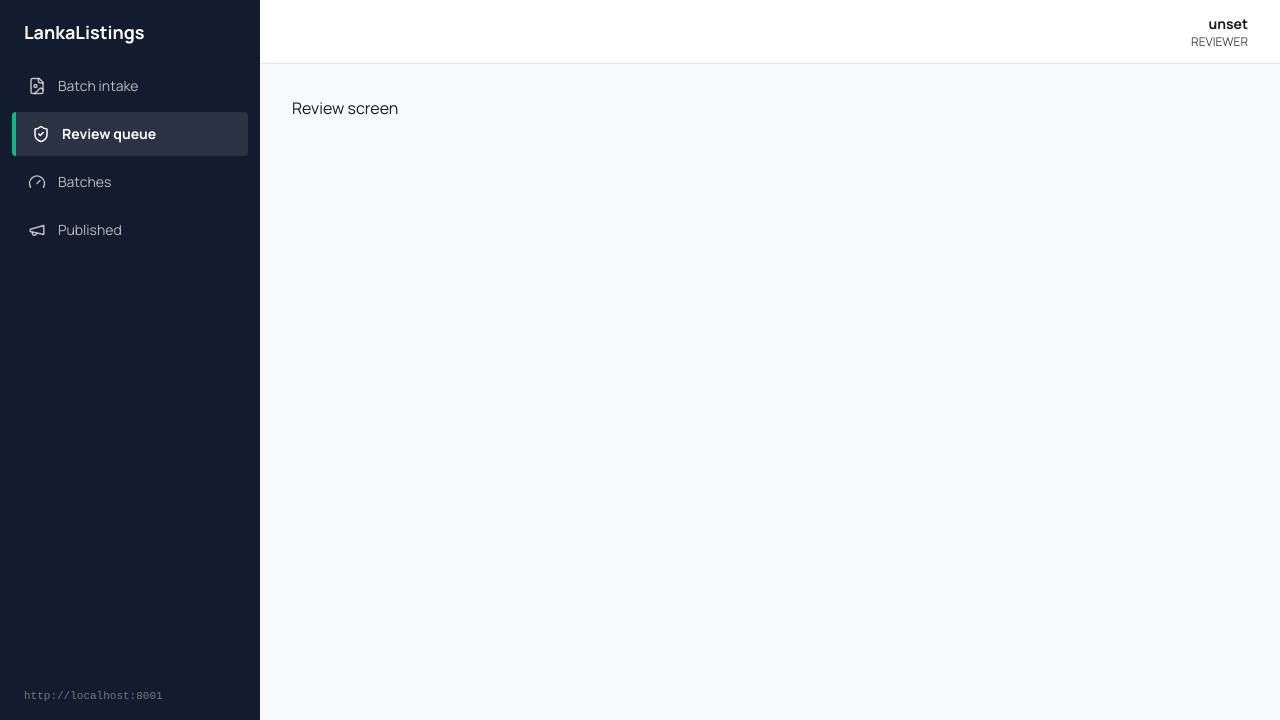
App shell › navigates rather than just looking like it does
This screenshot has width=1280, height=720.
Check: the text "Review screen" is shown, box x1=292 y1=97 x2=398 y2=119
Click the link "Batch intake" at (83, 86), box x1=28 y1=76 x2=138 y2=95
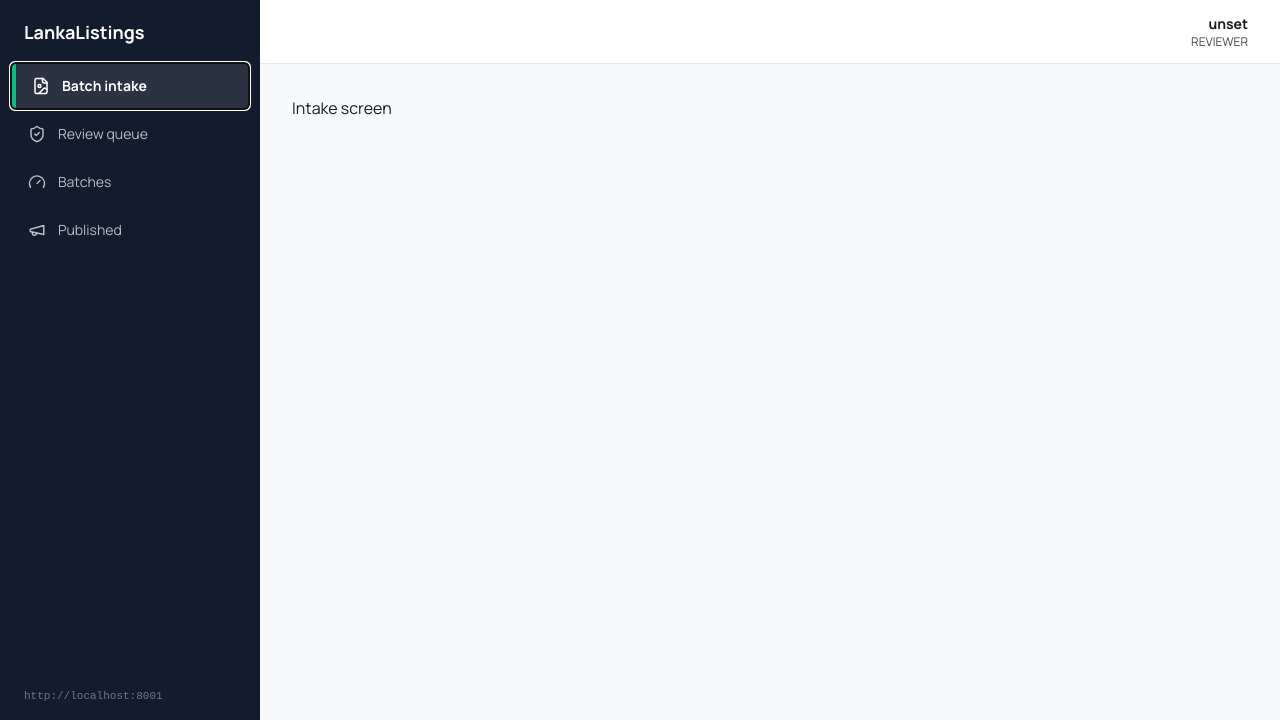
Check: the text "Intake screen" is shown, box x1=292 y1=97 x2=392 y2=119
